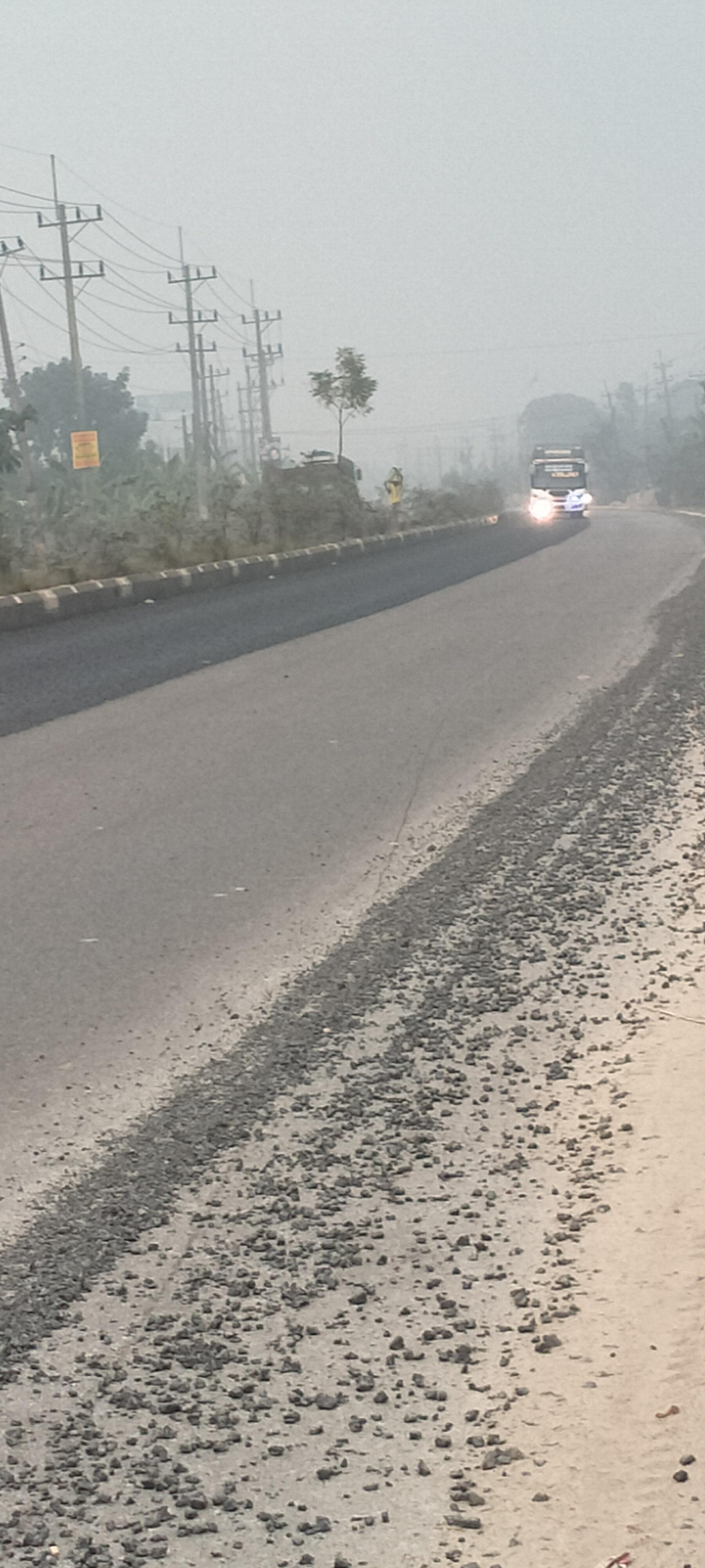Bus: (528, 438, 605, 526)
